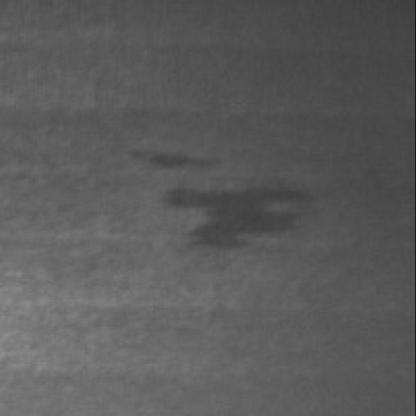inclusion: (150, 181, 326, 260), (135, 135, 231, 189)
